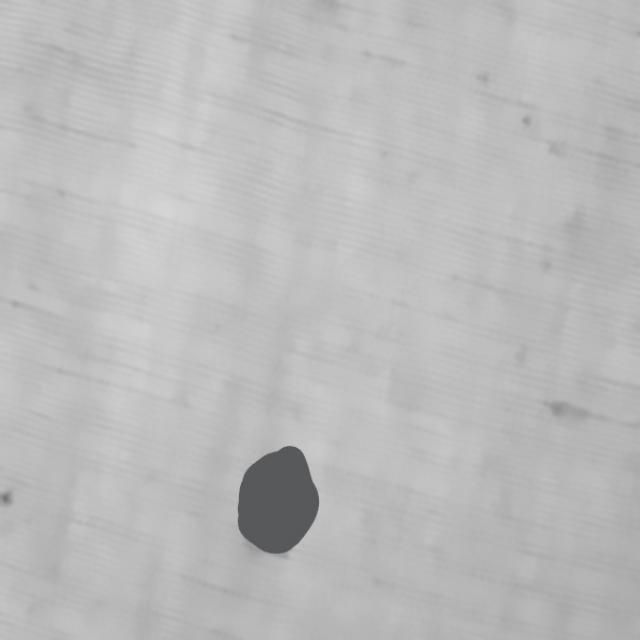Thread_other: (178, 422, 346, 568)
